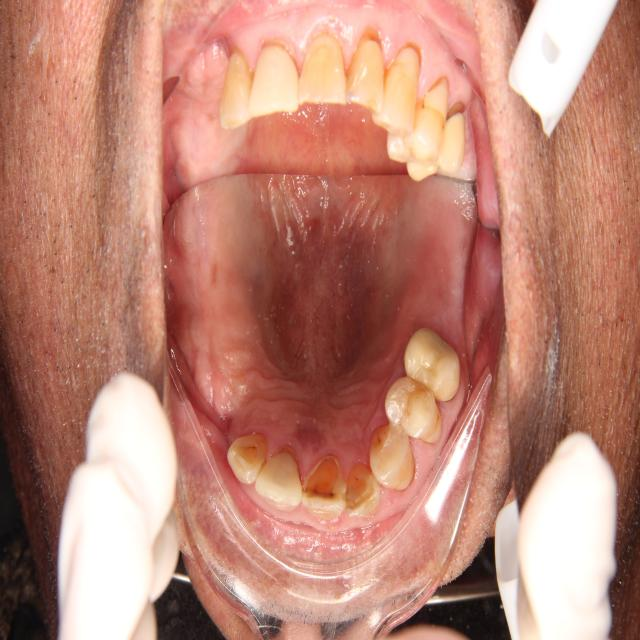tooth: (396, 322, 466, 408), (380, 372, 448, 451), (360, 416, 417, 497), (253, 436, 305, 521), (223, 417, 271, 496), (300, 451, 346, 527), (341, 456, 384, 533)
